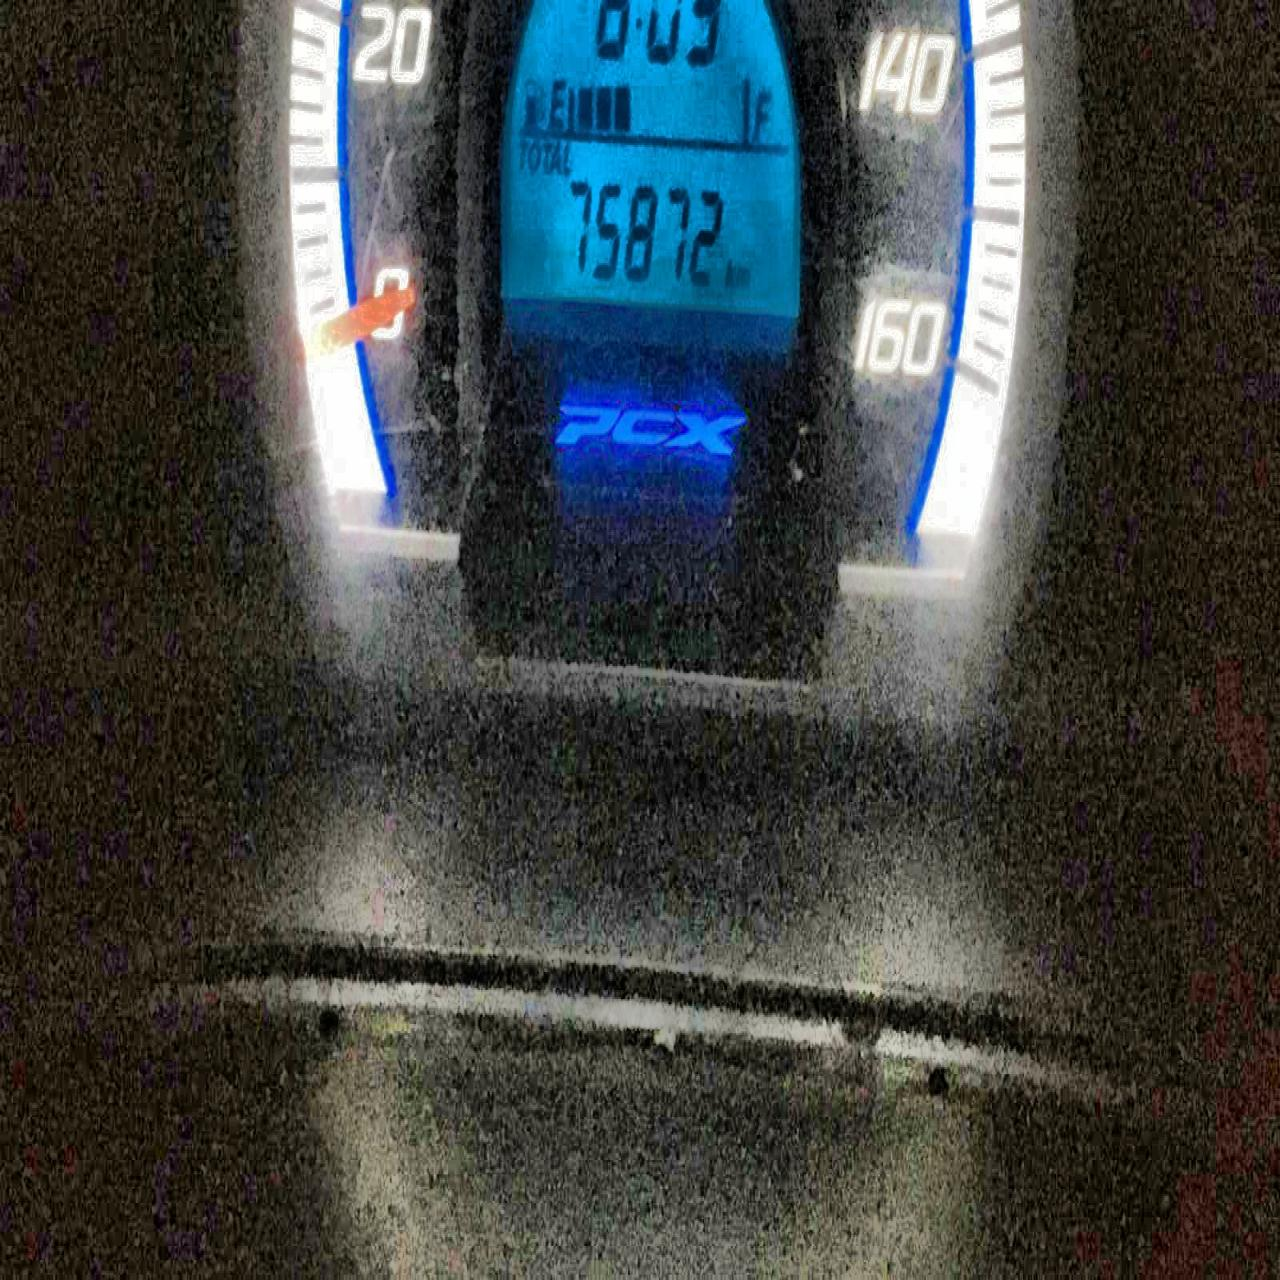2: (689, 181, 722, 288)
5: (593, 177, 621, 282)
7: (566, 173, 592, 281), (663, 181, 688, 285)
8: (622, 179, 658, 282)
X: (750, 88, 771, 142), (547, 75, 566, 129), (734, 264, 750, 287), (538, 139, 550, 171), (550, 139, 560, 173), (516, 138, 527, 169), (527, 138, 538, 170), (560, 139, 570, 171), (724, 254, 734, 286)
odometer: (489, 4, 806, 327)
